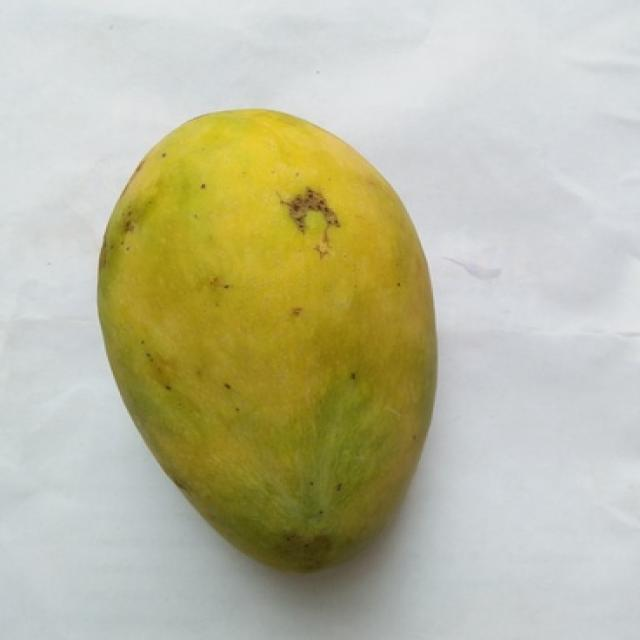Mango: (97, 110, 435, 570)
